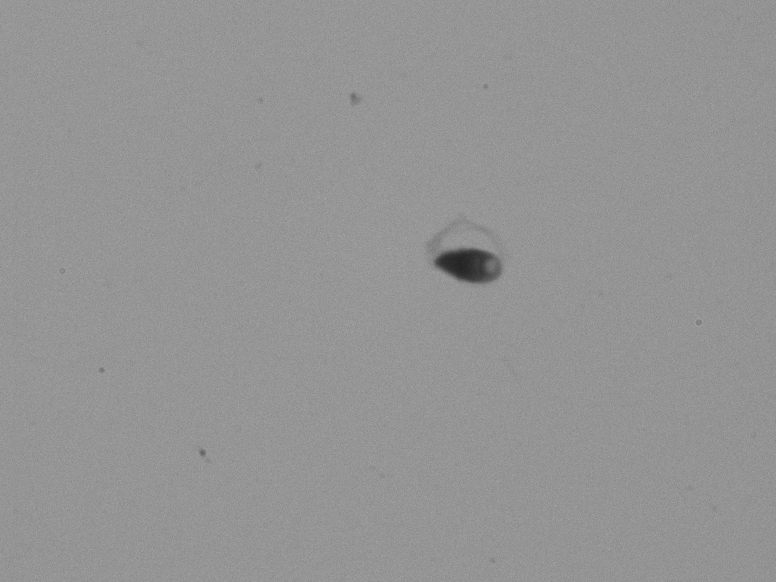Abnormal: (382, 177, 552, 347)
